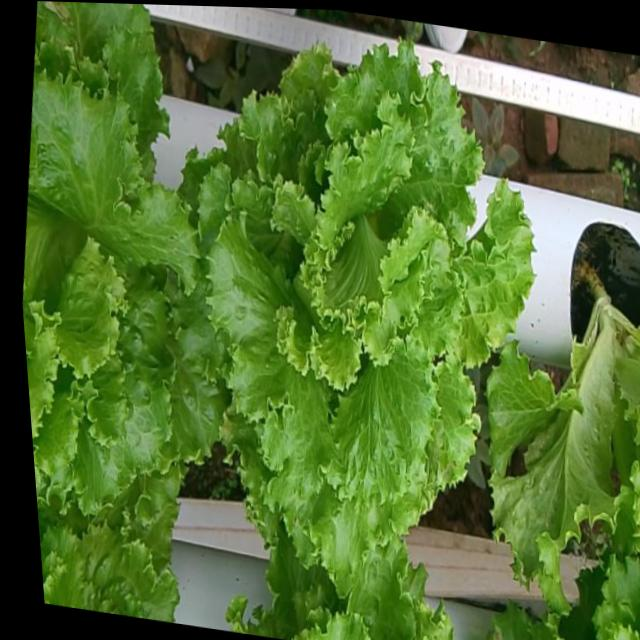Mature: (194, 40, 528, 567), (22, 61, 219, 509)
